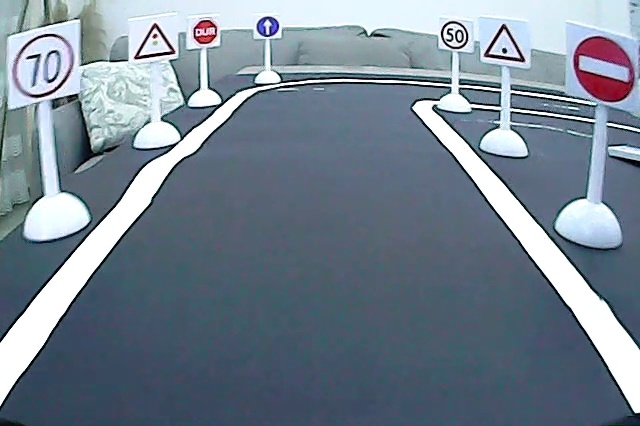do not enter: (570, 33, 636, 108)
green light: (481, 20, 529, 66)
red light: (131, 19, 178, 62)
speed limit 50: (440, 20, 470, 51)
speed limit 70: (10, 32, 77, 99)
stop sign: (191, 18, 221, 47)
